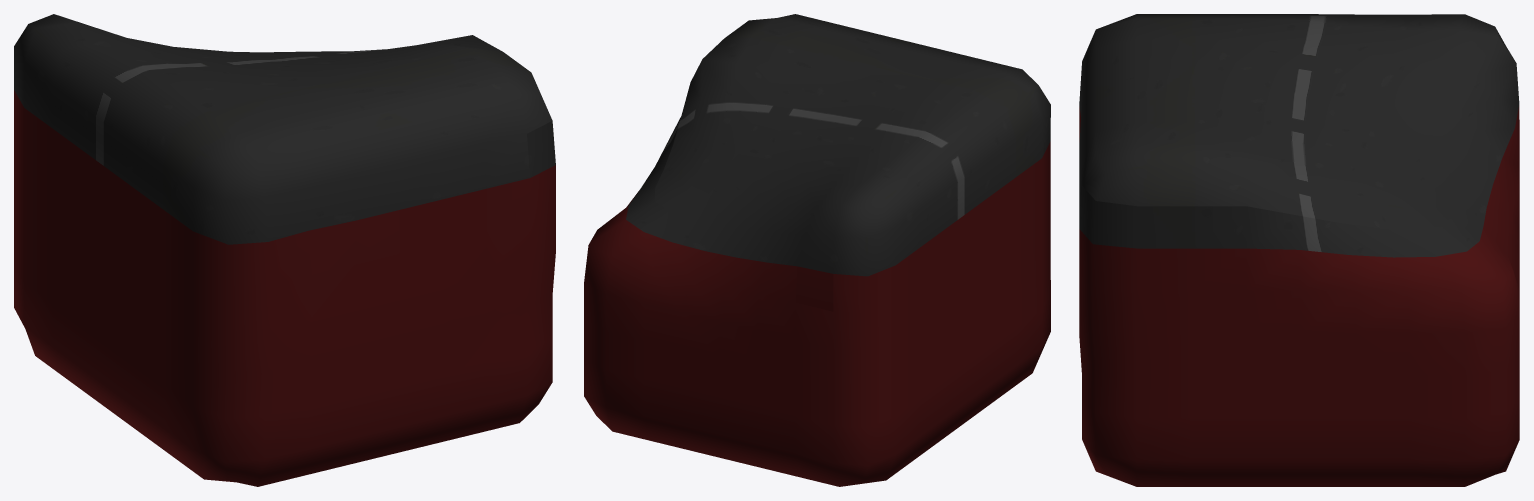
Rendered from RuinedGround_Block_02.fbx.
3 views of the same model, side by side, from view 1: azimuth 30°, elevation 25°; view 2: azimuth 150°, elevation 25°; view 3: azimuth 270°, elevation 25° (orthographic). The views are drawn at different scales.
Visible parts, largest first — view 1: Box013; view 2: Box013; view 3: Box013.
Part boxes in pixels (x1,y1,x2,y2): Box013: (14,14,555,486); Box013: (584,14,1050,486); Box013: (1079,14,1519,486).
Size of the model in its own units: 19.9 by 18.99 by 22.37.
